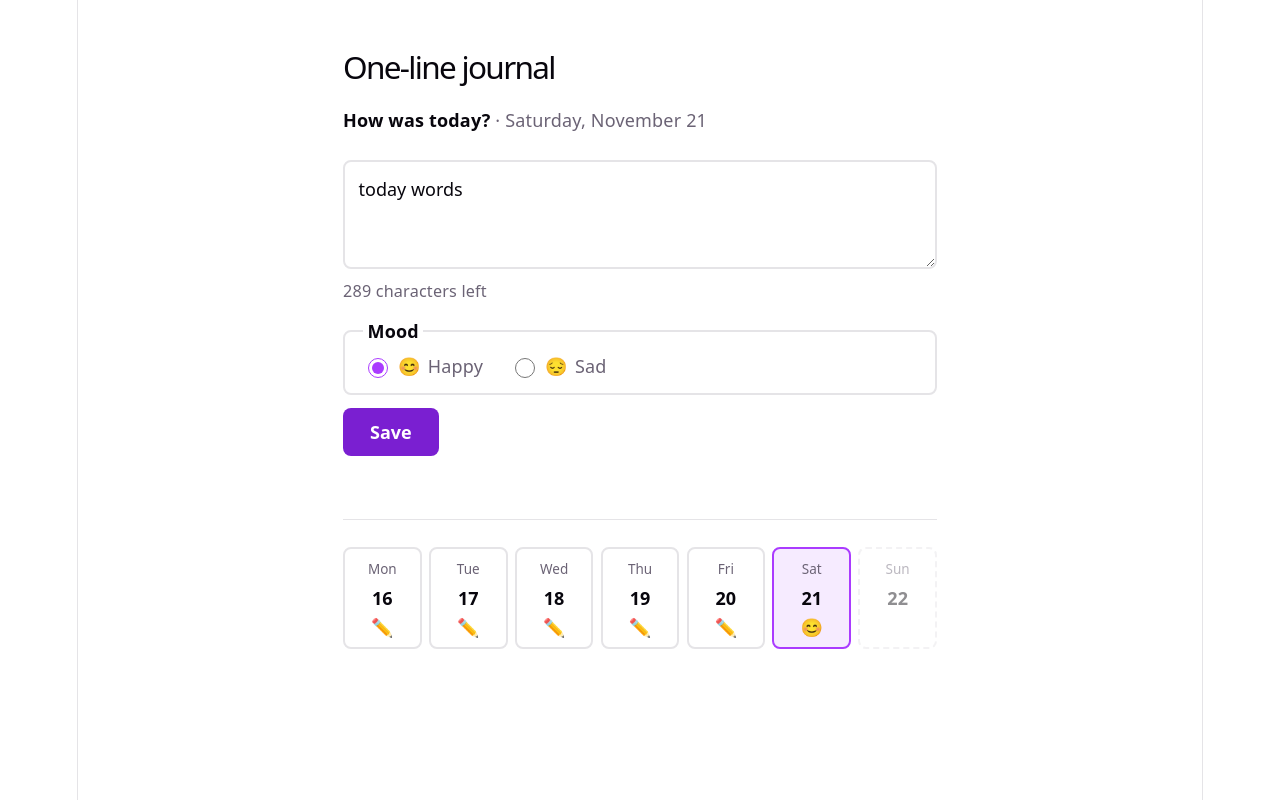
it: week strip › choosing a day › clicking today goes back to today (prefilled if saved)
The width and height of the screenshot is (1280, 800).
Expected: the text box labelled "How was today? Saturday, November 21" is enabled, [343,160,937,270]
Step 1. Click the button with aria-label "Tuesday" → x=468, y=598, box [429,547,508,649]
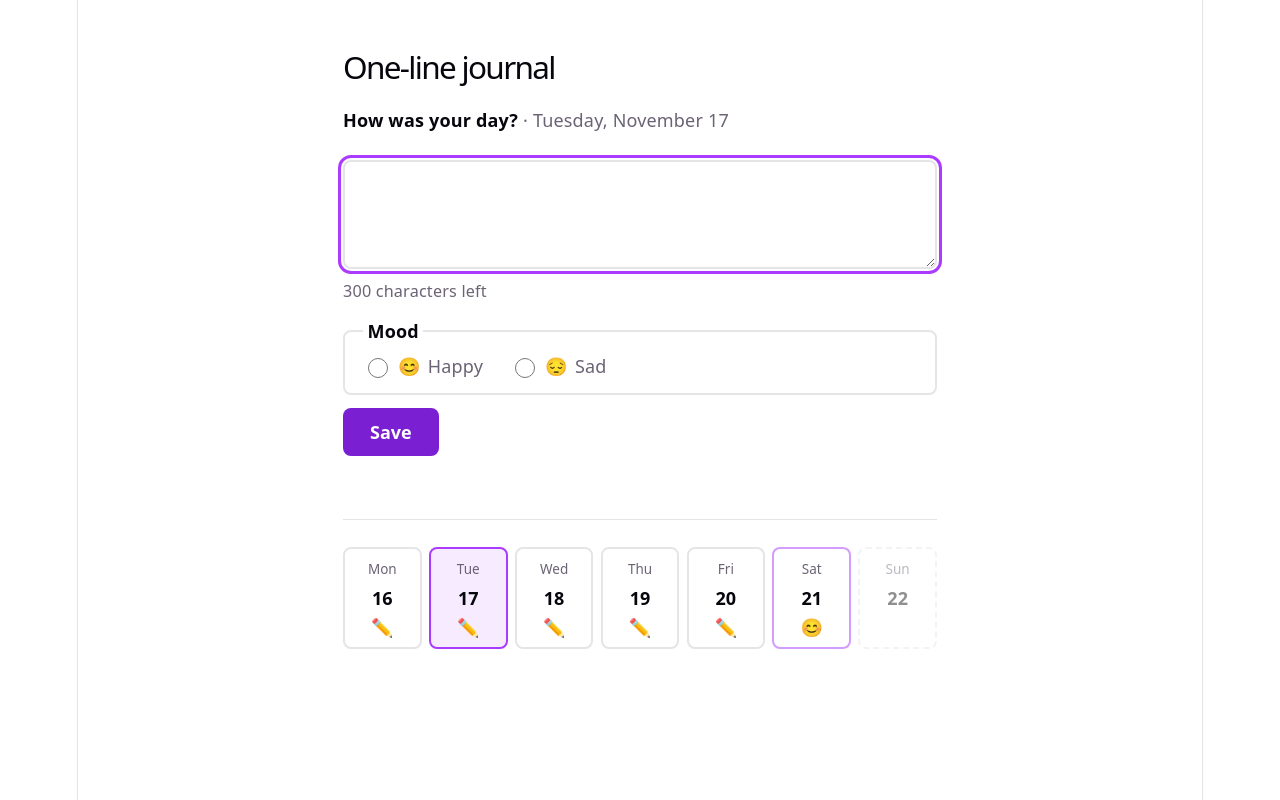
Step 2. Click the button with aria-label "Saturday" → x=812, y=598, box [772,547,851,649]
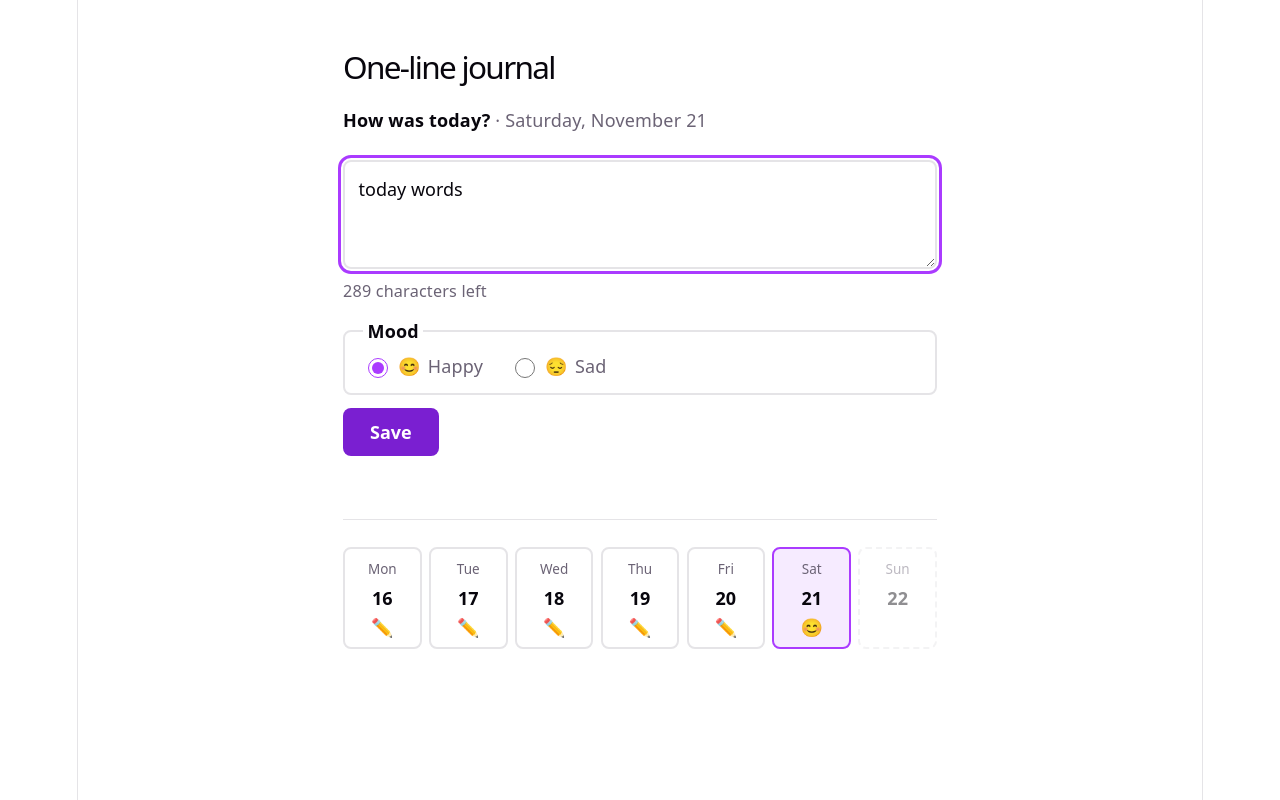
Result: the text box labelled "How was today? Saturday, November 21" holds "today words" at [343,160,937,270]
Result: the radio button labelled "Happy" is checked at [368,358,388,378]
